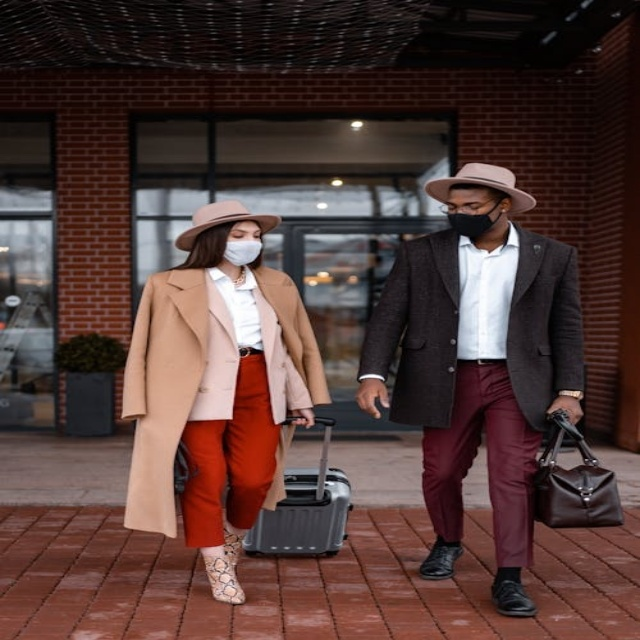Gafas: (438, 198, 500, 215)
Mascara: (446, 202, 504, 239), (221, 239, 263, 266)
Sin_gafas: (230, 229, 262, 239)
Sin_guantes: (545, 391, 591, 430), (355, 377, 396, 417), (284, 402, 319, 432)
